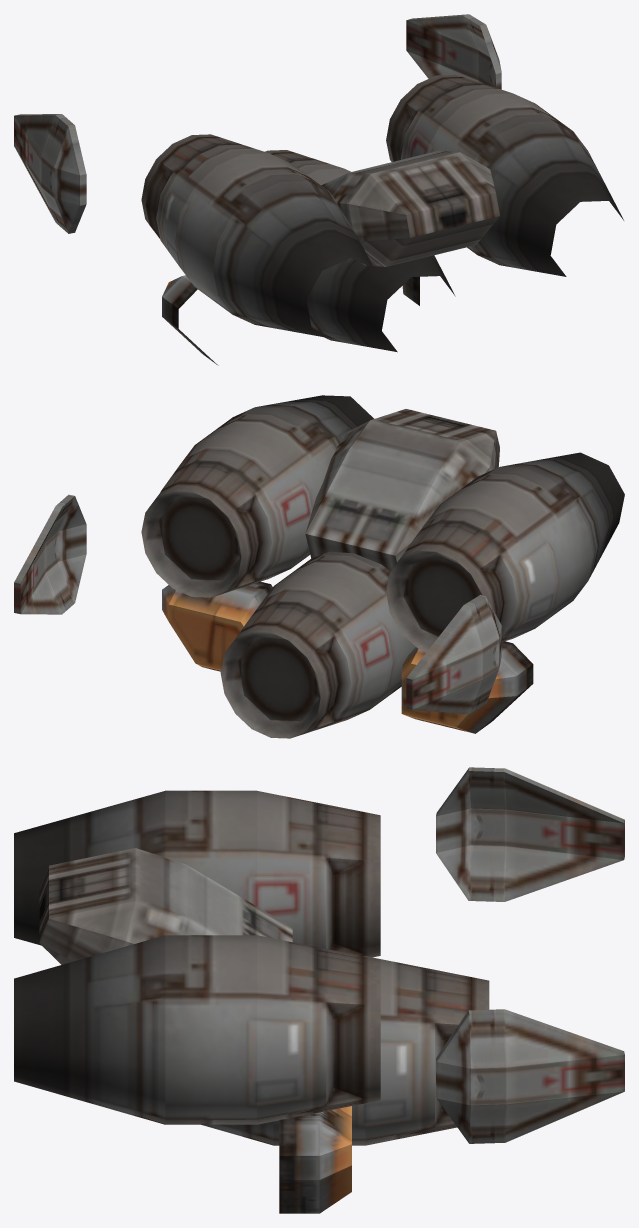
Rendered from hgn_fs_carrier_04_ion_engine_s.glb.
3 views of the same model, one above another, from view 1: azimuth 30°, elevation 25°; view 2: azimuth 150°, elevation 25°; view 3: azimuth 270°, elevation 25° (orthographic). The views are drawn at different scales.
Visible parts, largest first — view 1: hgn_fs_carrier_04_ion_engine_s; view 2: hgn_fs_carrier_04_ion_engine_s; view 3: hgn_fs_carrier_04_ion_engine_s.
Part boxes in pixels (<box>): hgn_fs_carrier_04_ion_engine_s: <box>14,14,623,365</box>; hgn_fs_carrier_04_ion_engine_s: <box>14,395,624,738</box>; hgn_fs_carrier_04_ion_engine_s: <box>14,767,624,1213</box>.
Size of the model in its own units: 2.21 by 1.04 by 2.17.
Materials: 1 (1 with a texture image).
